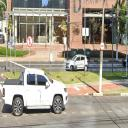NoSeguir: (26, 36, 32, 48)
